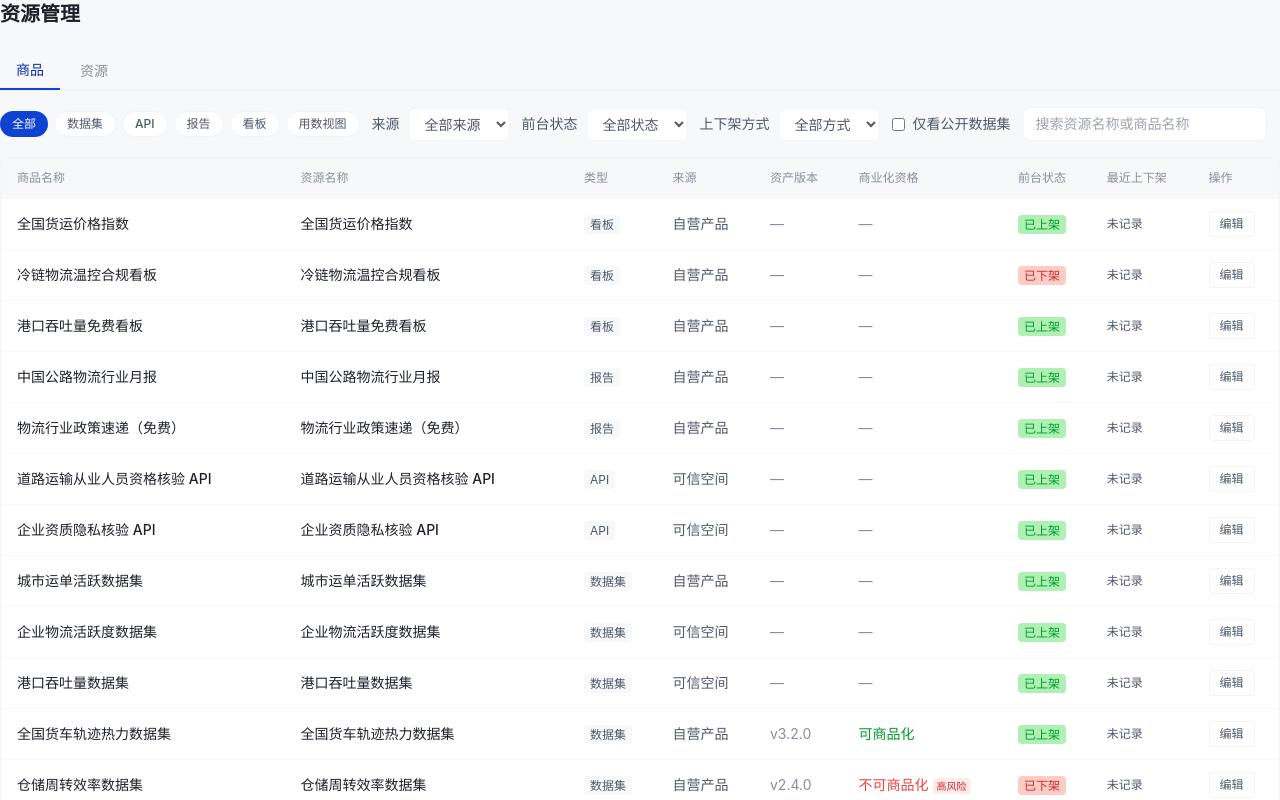
Test: ResourceCenter listing entry › shows unlisted resources on the resources tab
Click the tab with test id "resource-center-tab-resources" at (94, 71), box [64, 52, 124, 90]
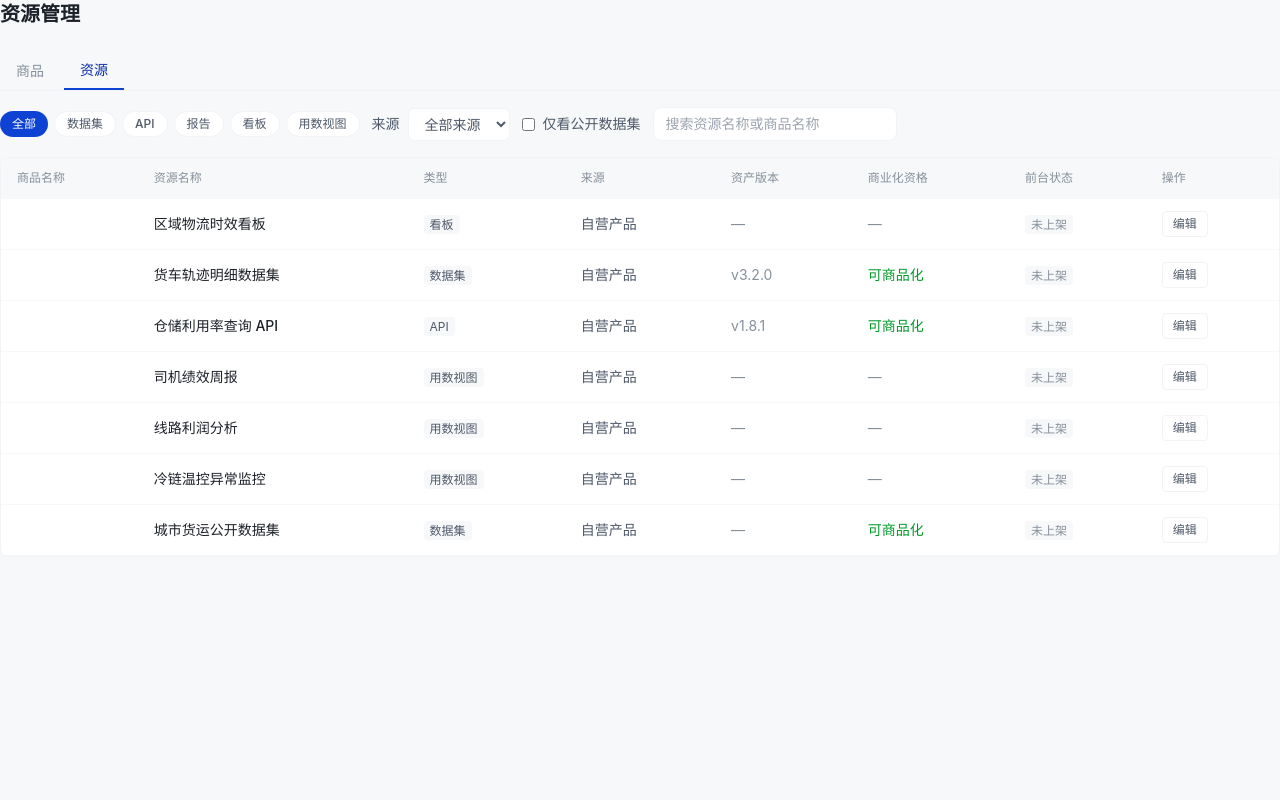
expect the text "未上架" is shown: met, box [1025, 215, 1073, 234]
expect the text "货车轨迹明细数据集" is shown: met, box [138, 250, 408, 300]
